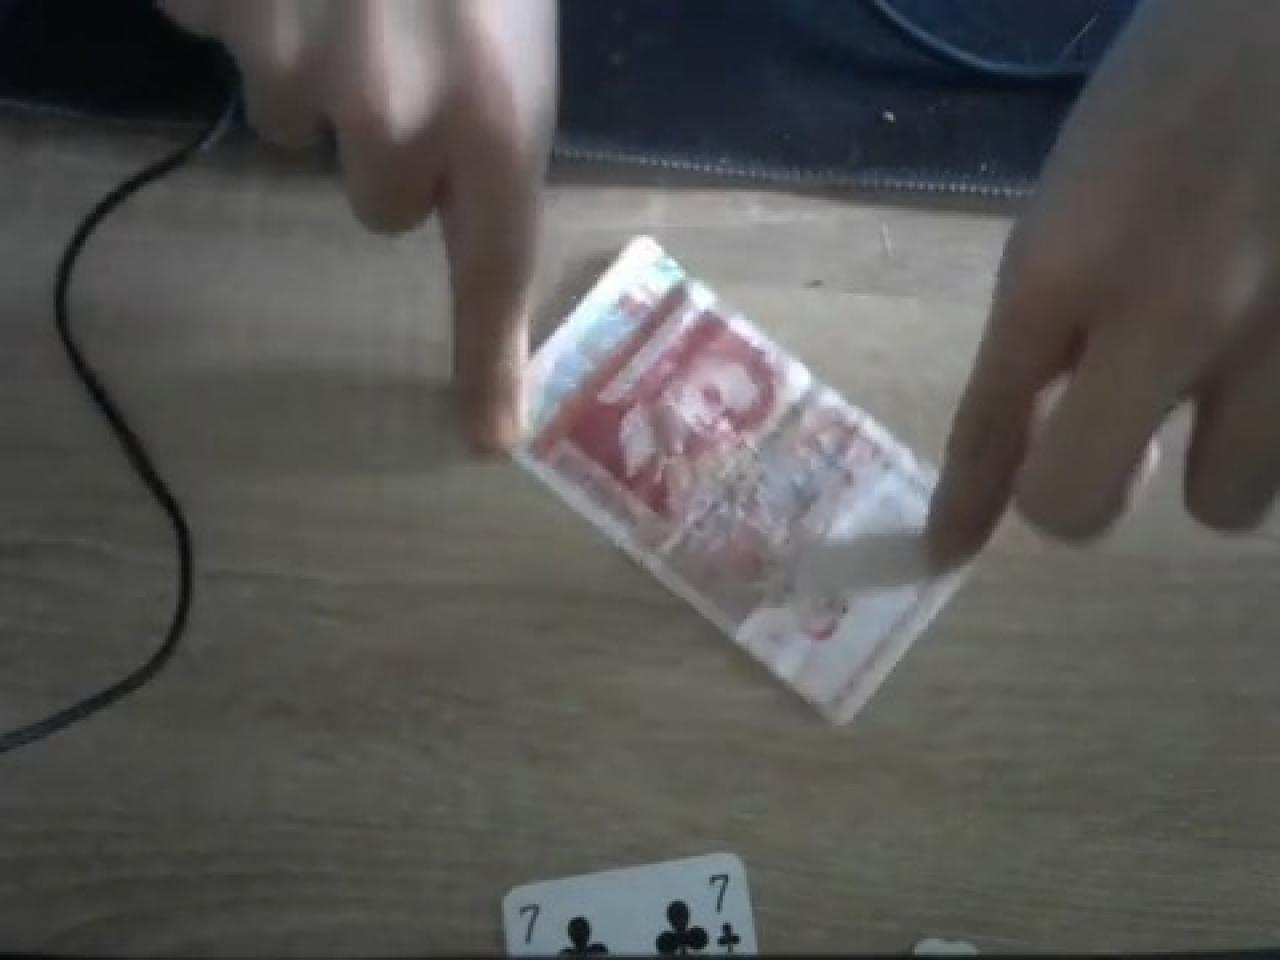5leva: (509, 237, 971, 728)
